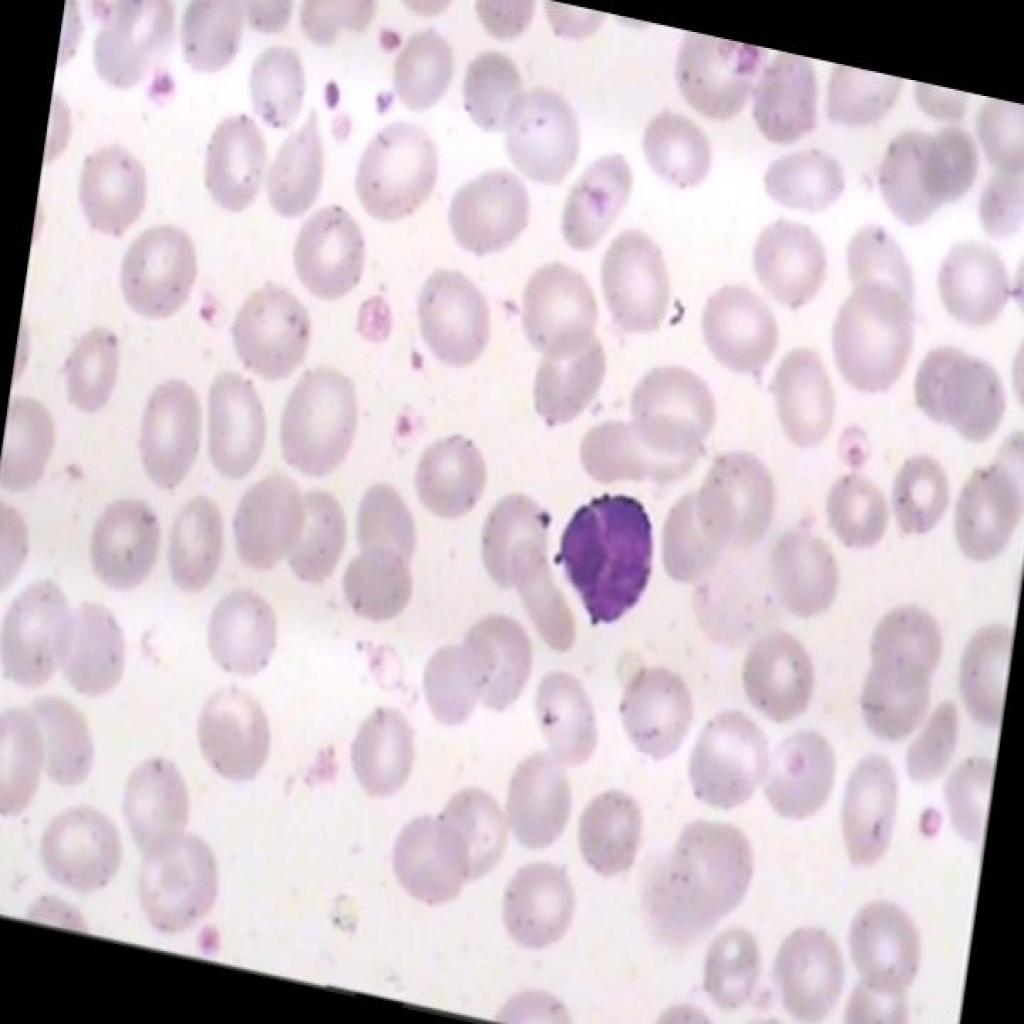Basofil: (539, 461, 666, 647)
Platelet: (368, 402, 430, 468), (893, 782, 952, 848), (512, 469, 559, 546), (41, 441, 94, 503), (392, 332, 441, 398), (368, 6, 418, 70), (356, 288, 402, 350), (186, 282, 228, 346), (140, 57, 180, 119), (366, 73, 410, 124), (320, 101, 357, 153), (838, 423, 873, 473), (310, 64, 344, 112), (88, 0, 114, 14)
